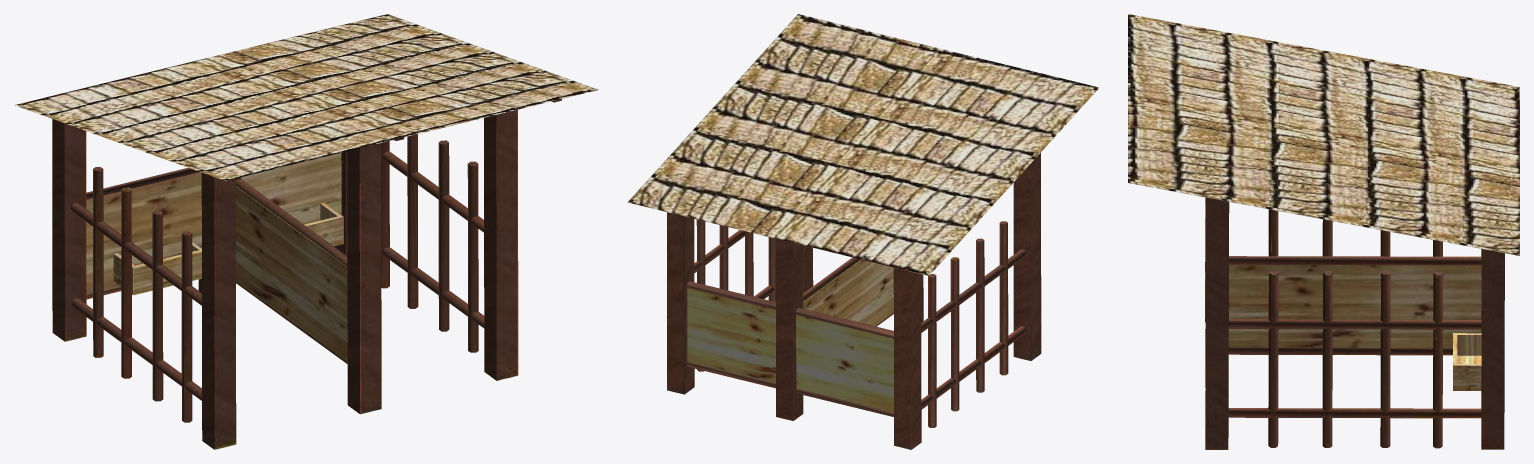
Rendered from Stable.fbx.
The picture shows the model from 3 angles, left to right: view 1: azimuth 30°, elevation 25°; view 2: azimuth 150°, elevation 25°; view 3: azimuth 270°, elevation 25°; orthographic projection. The views are drawn at different scales.
Visible parts, largest first — view 1: Gom_Estabulo_00; view 2: Gom_Estabulo_00; view 3: Gom_Estabulo_00.
Part boxes in pixels (x1,y1,x2,y2): Gom_Estabulo_00: [14, 14, 598, 449]; Gom_Estabulo_00: [627, 14, 1099, 449]; Gom_Estabulo_00: [1128, 14, 1519, 449].
Bounding box in the file's own units: 3.49 × 2.75 × 3.42.
